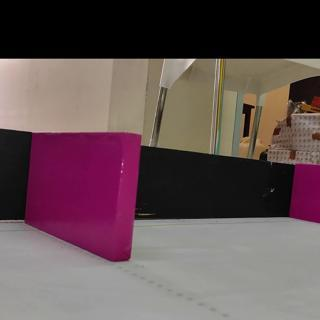xparking: (31, 133, 138, 247), (295, 165, 320, 220)
